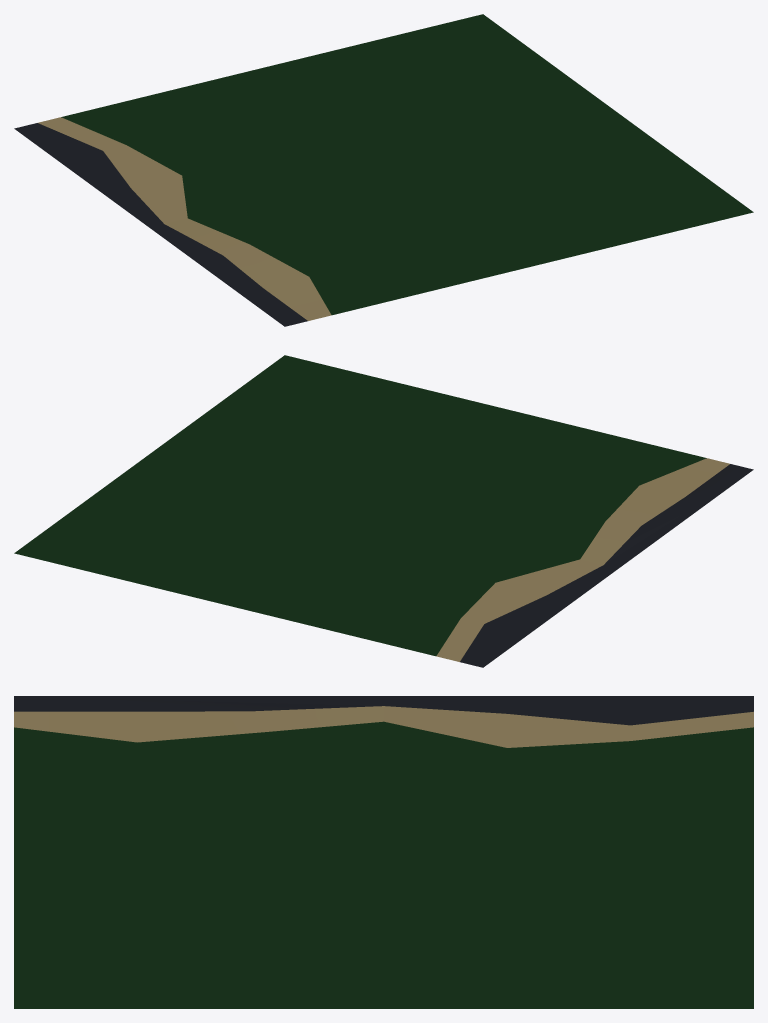
File: terrain_plains_coast1.fbx
3 views of the same model, one above another, from view 1: azimuth 30°, elevation 25°; view 2: azimuth 150°, elevation 25°; view 3: azimuth 270°, elevation 25° (orthographic). The views are drawn at different scales.
Parts seen in each view (by area): view 1: terrain_plains_coast1; view 2: terrain_plains_coast1; view 3: terrain_plains_coast1.
Boxes of the visible parts, x1,y1,x2,y2 form: terrain_plains_coast1: (14,14,753,326); terrain_plains_coast1: (14,355,753,667); terrain_plains_coast1: (14,696,753,1008).
Size of the model in its own units: 10 by 0.027 by 10.
